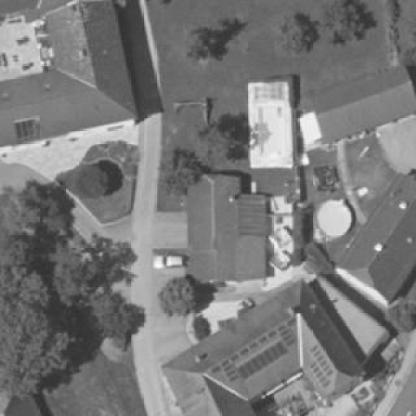solar-pv-panel: (208, 316, 297, 383), (237, 340, 288, 380), (308, 344, 334, 388), (12, 118, 37, 140)
